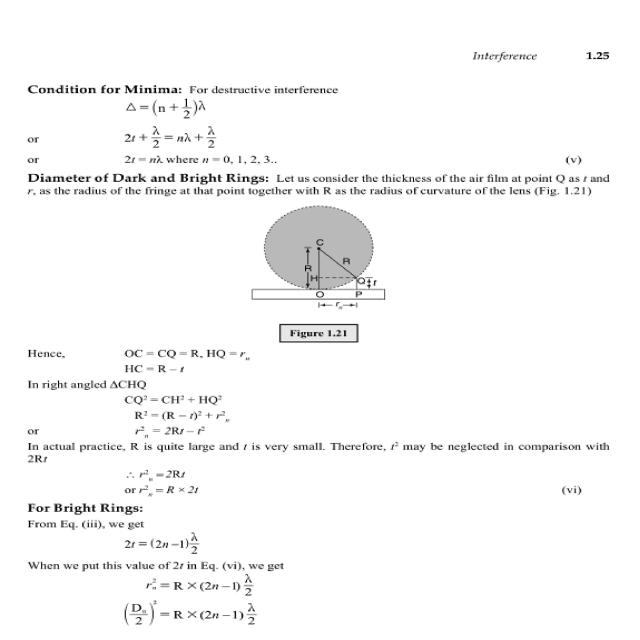diagram: (164, 198, 599, 350)
